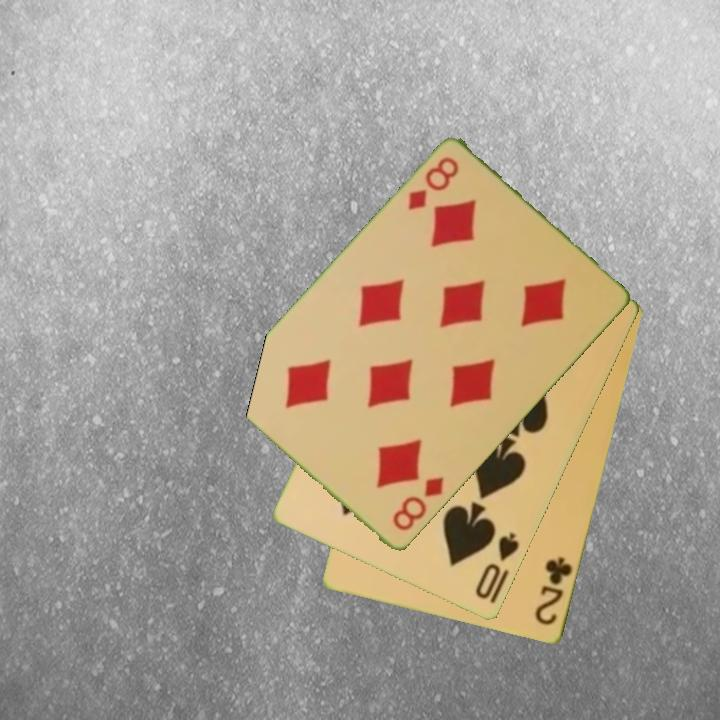10s: (472, 529, 523, 603)
2c: (532, 553, 576, 629)
8d: (389, 473, 447, 535), (404, 153, 462, 214)
